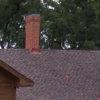Chimney: (18, 8, 46, 55)
